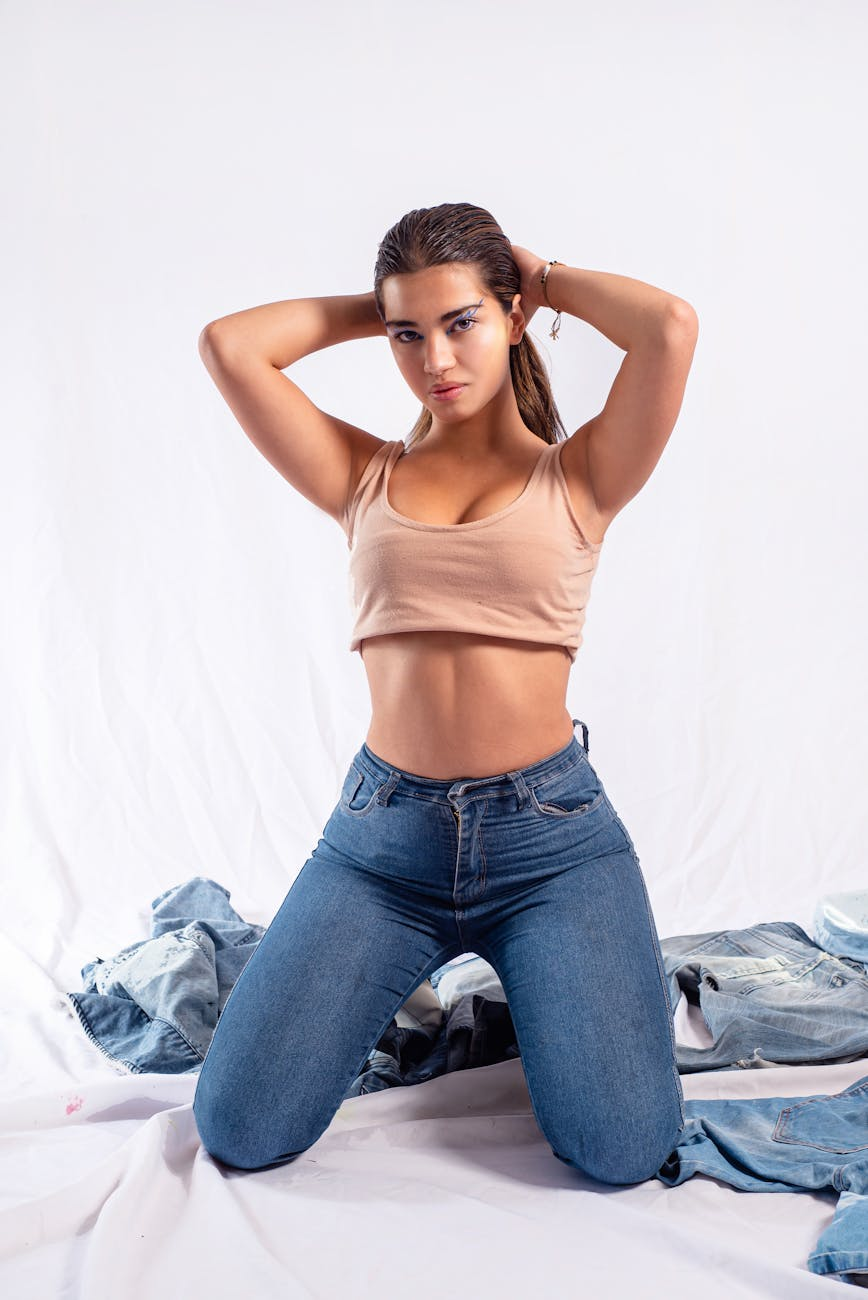crop_top: (322, 404, 630, 671)
